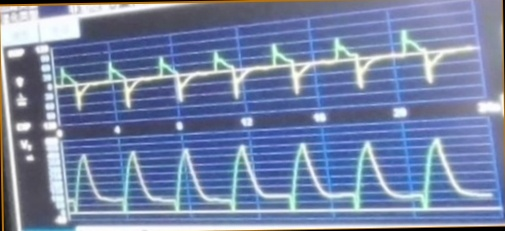Flow: (59, 32, 474, 110)
Leakage Volume: (69, 136, 489, 220)
